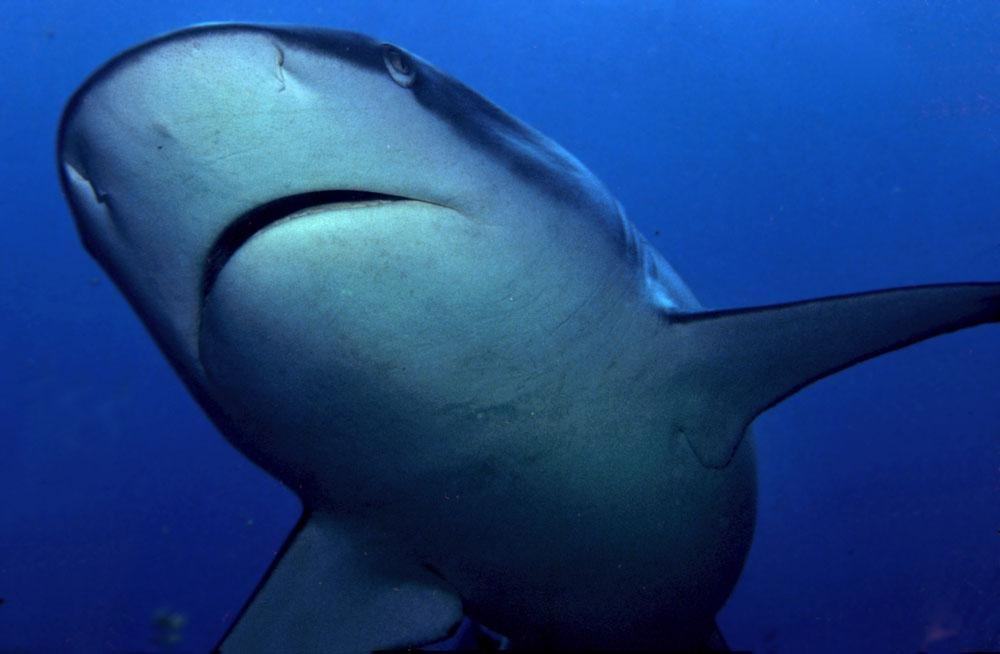fish: (46, 18, 1000, 654)
